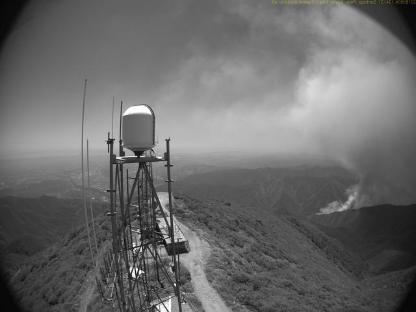smoke: (296, 54, 414, 216)
